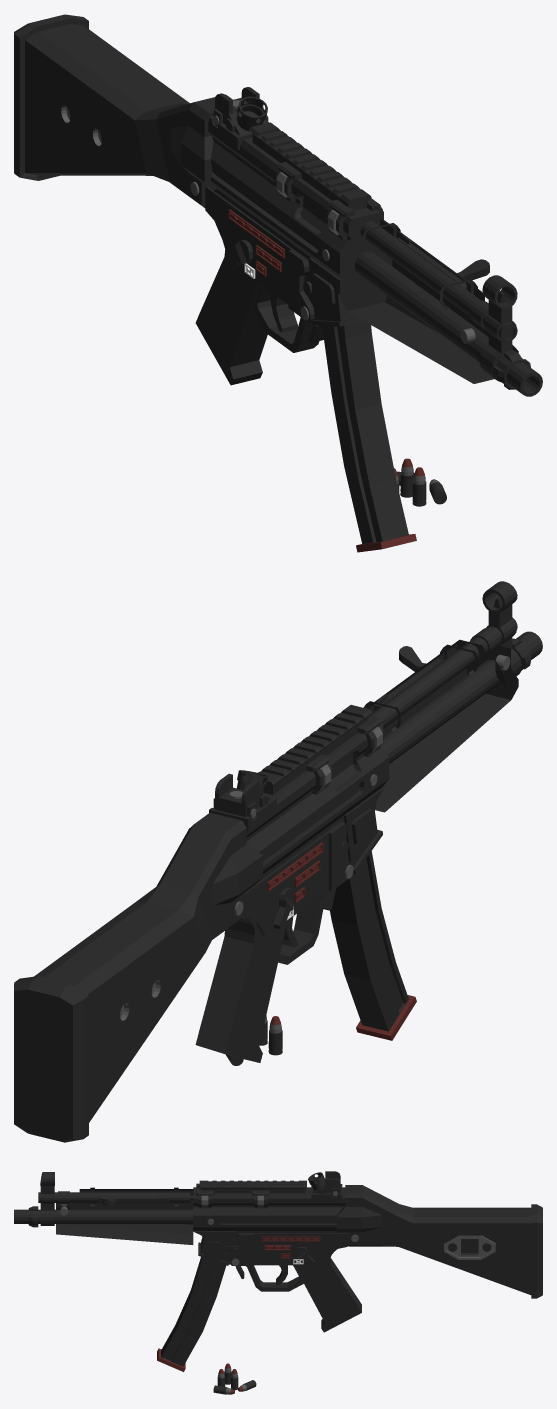
3 views of the same model, one above another, from view 1: azimuth 30°, elevation 25°; view 2: azimuth 150°, elevation 25°; view 3: azimuth 270°, elevation 25° (orthographic). The views are drawn at different scales.
Parts seen in each view (by area): view 1: MP5_Stock1, MP5_Receiver, MP5_Barrel1, MP5_Mag1, MP5_RearGrip1, MP5_Receiver_Rail, MP5_Sight_Back, MP5_Barrel1_Bolt, MP5_Trigger; view 2: MP5_Stock1, MP5_Receiver, MP5_Barrel1, MP5_Mag1, MP5_RearGrip1, MP5_Receiver_Rail, MP5_Sight_Back, MP5_Barrel1_Bolt; view 3: MP5_Stock1, MP5_Receiver, MP5_Barrel1, MP5_Mag1, MP5_RearGrip1, MP5_Receiver_Rail, MP5_Sight_Back, MP5_Barrel1_Bolt.
Part boxes in pixels (x1,y1,x2,y2): MP5_Stock1: [14, 14, 232, 207]; MP5_Receiver: [205, 122, 389, 352]; MP5_Barrel1: [340, 215, 542, 396]; MP5_Mag1: [322, 321, 416, 552]; MP5_RearGrip1: [195, 250, 267, 385]; MP5_Receiver_Rail: [249, 122, 383, 239]; MP5_Sight_Back: [209, 87, 268, 149]; MP5_Barrel1_Bolt: [397, 237, 489, 287]; MP5_Trigger: [270, 292, 297, 332]; MP5_Stock1: [14, 813, 262, 1142]; MP5_Receiver: [240, 721, 389, 964]; MP5_Barrel1: [363, 581, 542, 812]; MP5_Mag1: [330, 851, 416, 1040]; MP5_RearGrip1: [195, 918, 287, 1062]; MP5_Receiver_Rail: [258, 705, 383, 794]; MP5_Sight_Back: [209, 770, 276, 831]; MP5_Barrel1_Bolt: [378, 646, 443, 708]; MP5_Stock1: [336, 1185, 542, 1298]; MP5_Receiver: [193, 1187, 348, 1291]; MP5_Barrel1: [14, 1172, 193, 1244]; MP5_Mag1: [157, 1257, 226, 1371]; MP5_RearGrip1: [294, 1252, 361, 1332]; MP5_Receiver_Rail: [196, 1180, 306, 1208]; MP5_Sight_Back: [308, 1171, 342, 1201]; MP5_Barrel1_Bolt: [99, 1197, 168, 1205].
Bounding box in the file's own units: 0.00136 × 0.00329 × 0.00807.
Materials: 1 (1 with a texture image).
